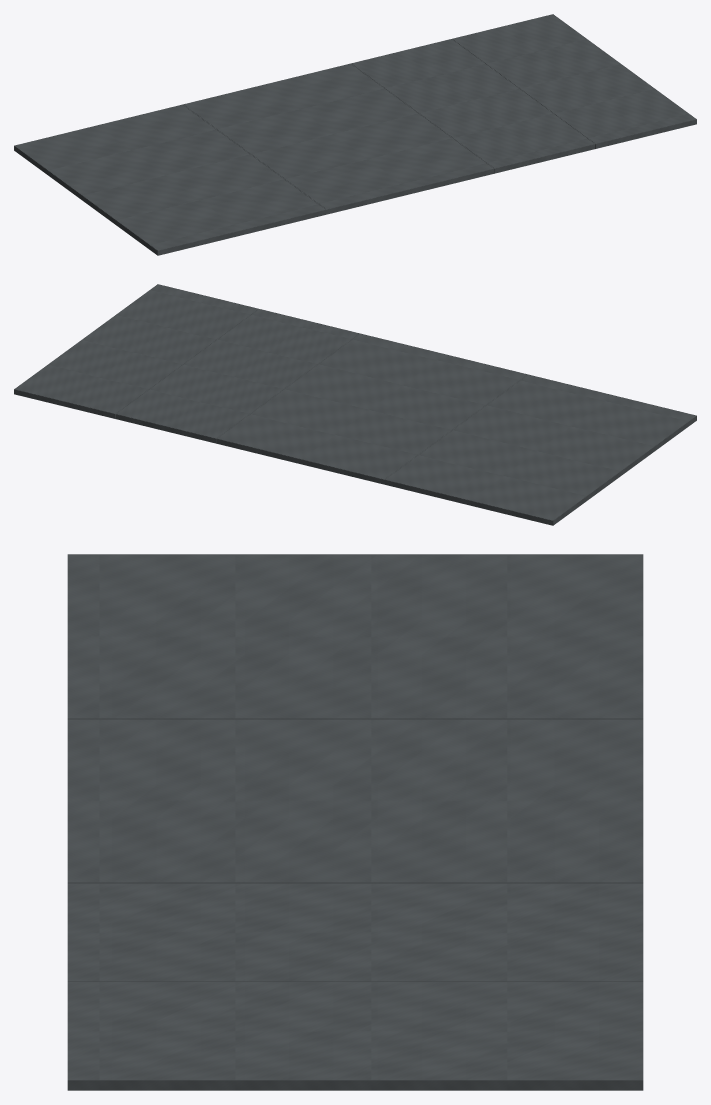
File: retreat_r3_a4_roof.glb
The picture shows the model from 3 angles, top to bottom: view 1: azimuth 30°, elevation 25°; view 2: azimuth 150°, elevation 25°; view 3: azimuth 270°, elevation 25°; orthographic projection. The views are drawn at different scales.
Visible parts, largest first — view 1: VTT_Optional_Rock_Ceiling_0, VTT_Optional_Rock_Ceiling_1, VTT_Optional_Rock_Ceiling_2, VTT_Optional_Rock_Ceiling_3; view 2: VTT_Optional_Rock_Ceiling_0, VTT_Optional_Rock_Ceiling_1, VTT_Optional_Rock_Ceiling_2, VTT_Optional_Rock_Ceiling_3; view 3: VTT_Optional_Rock_Ceiling_0, VTT_Optional_Rock_Ceiling_1, VTT_Optional_Rock_Ceiling_3, VTT_Optional_Rock_Ceiling_2.
Boxes of the visible parts, x1=… form: VTT_Optional_Rock_Ceiling_0: x1=14, y1=104, x2=327, y2=255; VTT_Optional_Rock_Ceiling_1: x1=183, y1=63, x2=494, y2=214; VTT_Optional_Rock_Ceiling_2: x1=350, y1=39, x2=595, y2=173; VTT_Optional_Rock_Ceiling_3: x1=452, y1=14, x2=696, y2=148; VTT_Optional_Rock_Ceiling_0: x1=384, y1=374, x2=696, y2=525; VTT_Optional_Rock_Ceiling_1: x1=216, y1=333, x2=528, y2=484; VTT_Optional_Rock_Ceiling_2: x1=115, y1=309, x2=360, y2=443; VTT_Optional_Rock_Ceiling_3: x1=14, y1=284, x2=259, y2=418; VTT_Optional_Rock_Ceiling_0: x1=67, y1=554, x2=643, y2=719; VTT_Optional_Rock_Ceiling_1: x1=67, y1=718, x2=643, y2=883; VTT_Optional_Rock_Ceiling_3: x1=67, y1=981, x2=643, y2=1090; VTT_Optional_Rock_Ceiling_2: x1=67, y1=882, x2=643, y2=982.
Size of the model in its own units: 24.04 by 0.22 by 11.11.
Materials: 1 (1 with a texture image).
